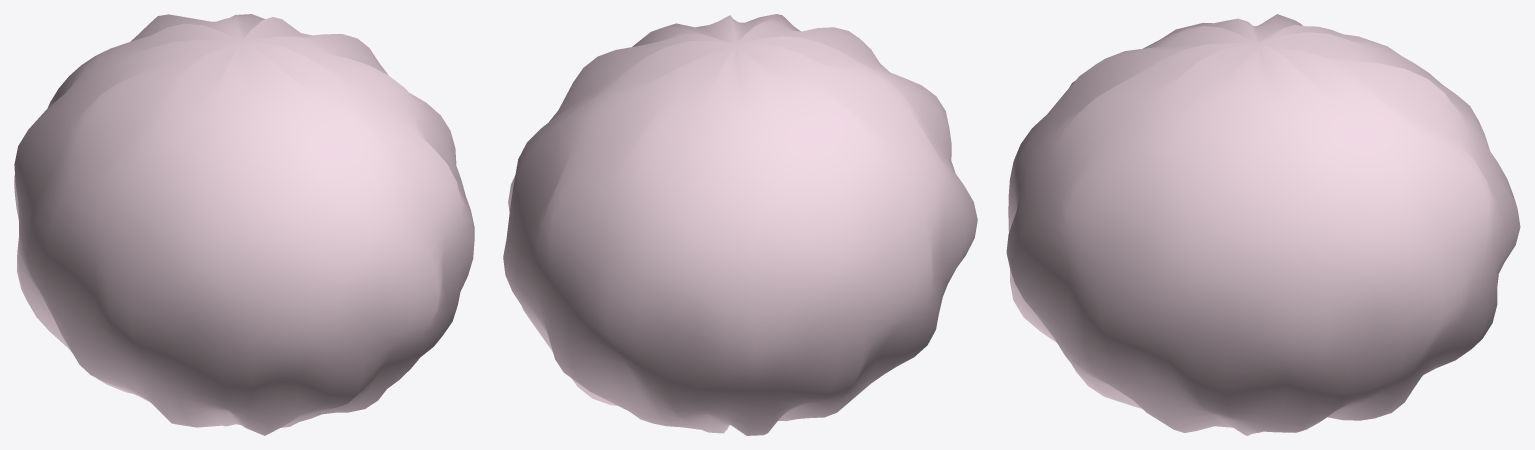
The model's file is brain.glb.
3 renders of one model, left to right at view 1: azimuth 30°, elevation 25°; view 2: azimuth 150°, elevation 25°; view 3: azimuth 270°, elevation 25°, orthographic.
Visible parts, largest first — view 1: brain; view 2: brain; view 3: brain.
Part boxes in pixels (x1,y1,x2,y2): brain: [14, 14, 474, 435]; brain: [503, 14, 977, 435]; brain: [1006, 14, 1520, 435].
Size of the model in its own units: 0.1776 by 0.1582 by 0.1965.
